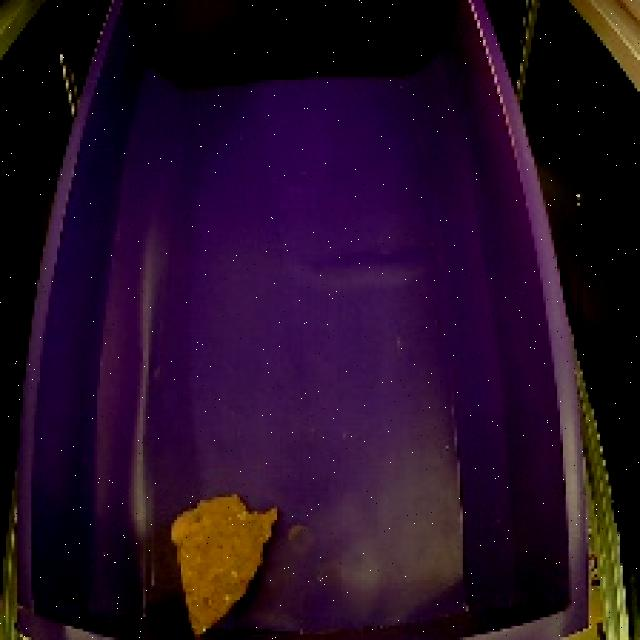brick: (161, 482, 285, 640)
